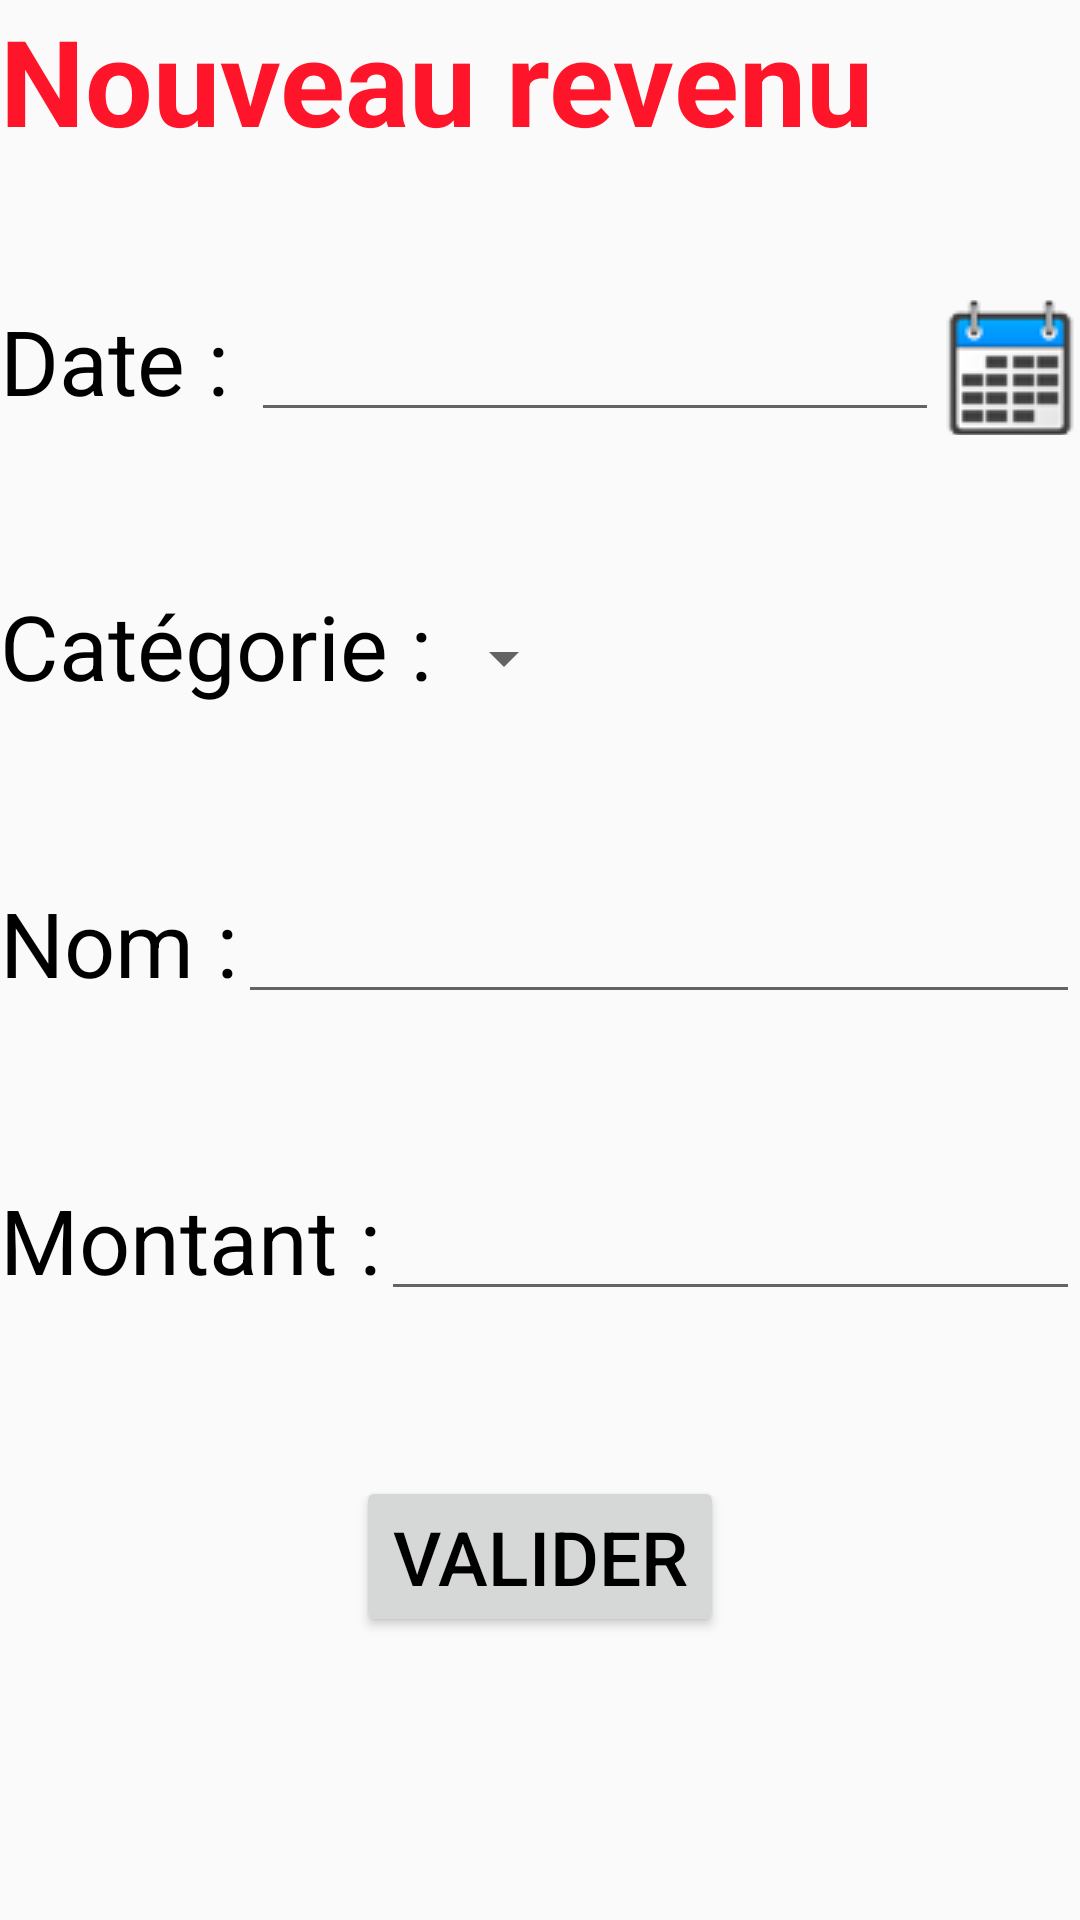

Point at icon controls on the screen. Image size 1080 × 1920, points as [x,y].
calendar: [1010,367]
